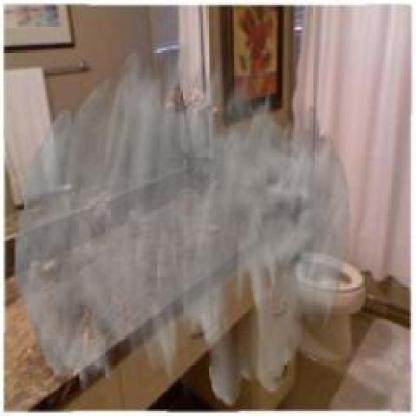Smoke: (15, 43, 351, 406)
